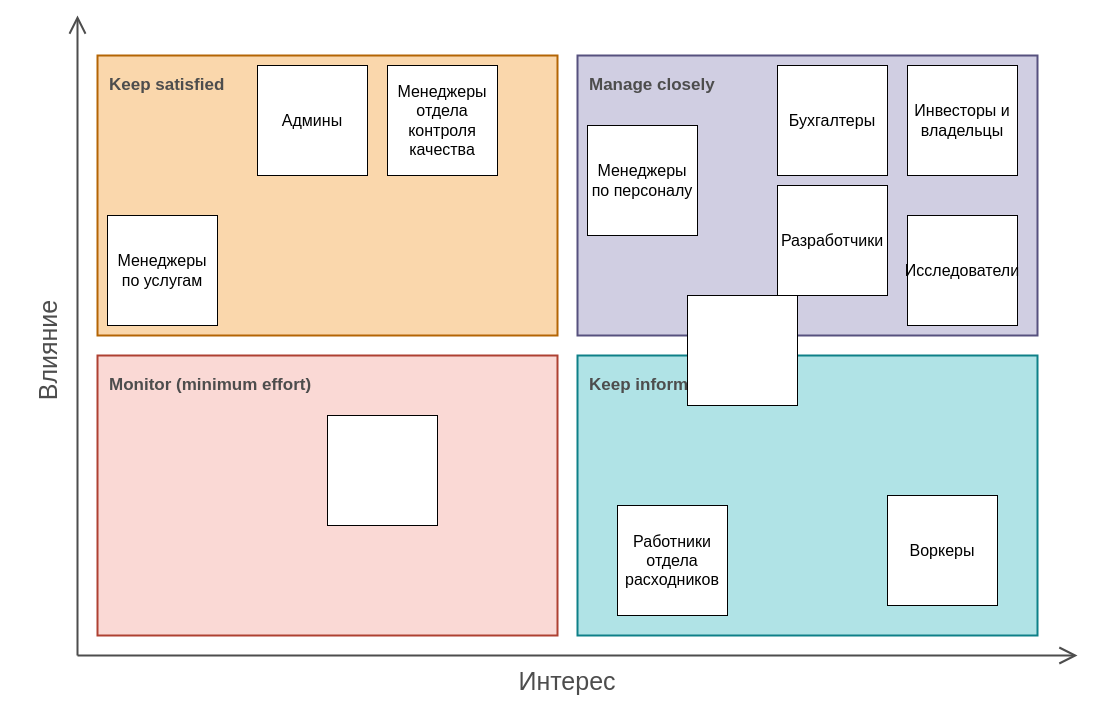
Image size: 1093x713. Some labels were removed from this diagram. The shapes that lost their labels are listed below. From the top down, each one's centre as x and y in pixels, then its label:
At (x=742, y=350): "Клиенты".
At (x=382, y=470): "Юристы".
